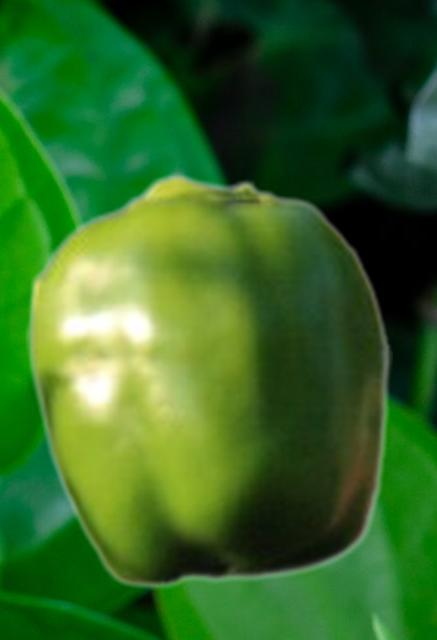bell_pepper: (26, 172, 391, 589)
